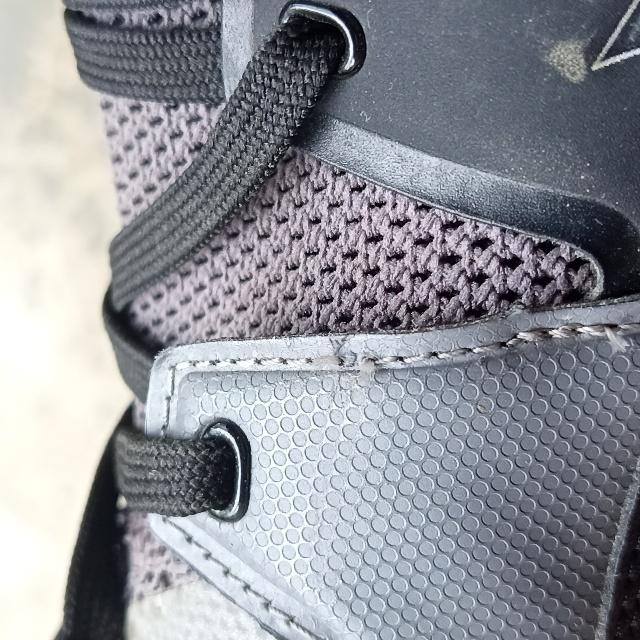broken: (318, 339, 387, 388)
